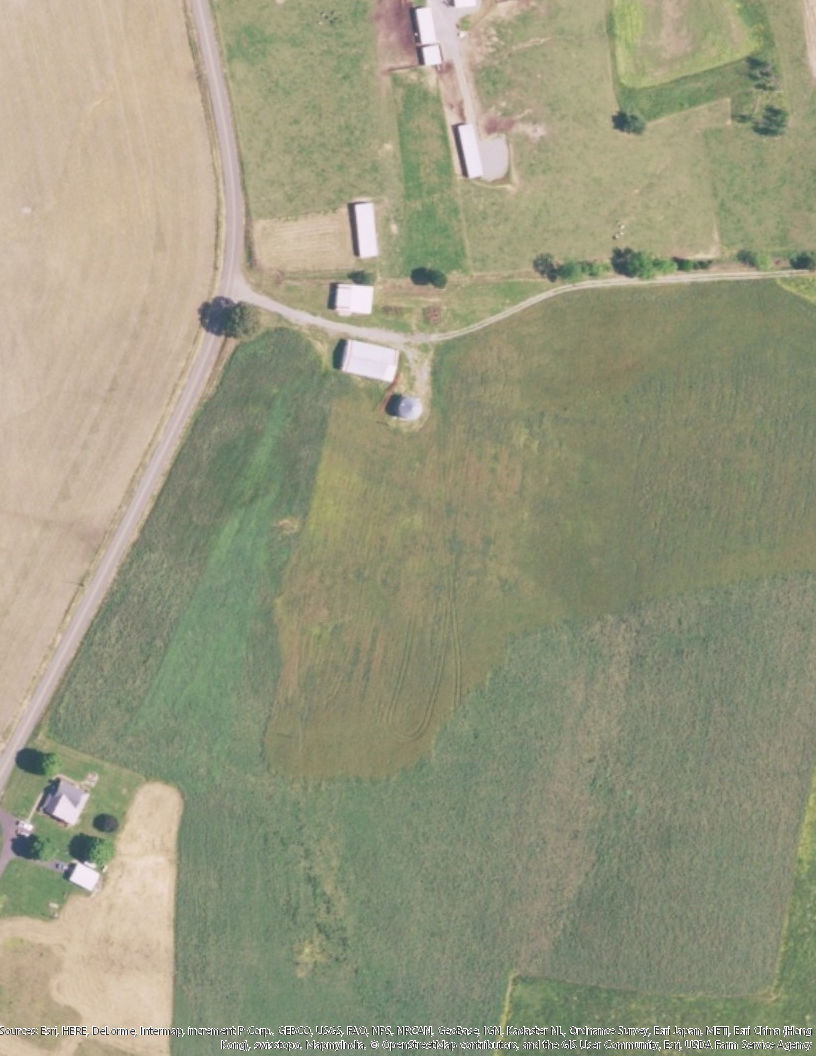cafo: (331, 339, 409, 382), (405, 5, 445, 71), (351, 199, 389, 261), (454, 118, 490, 181), (333, 284, 379, 316)
